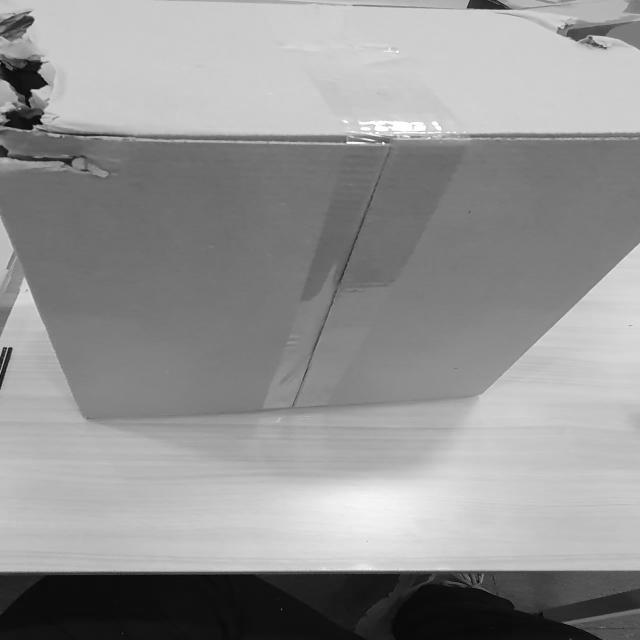hole: (6, 54, 83, 176)
